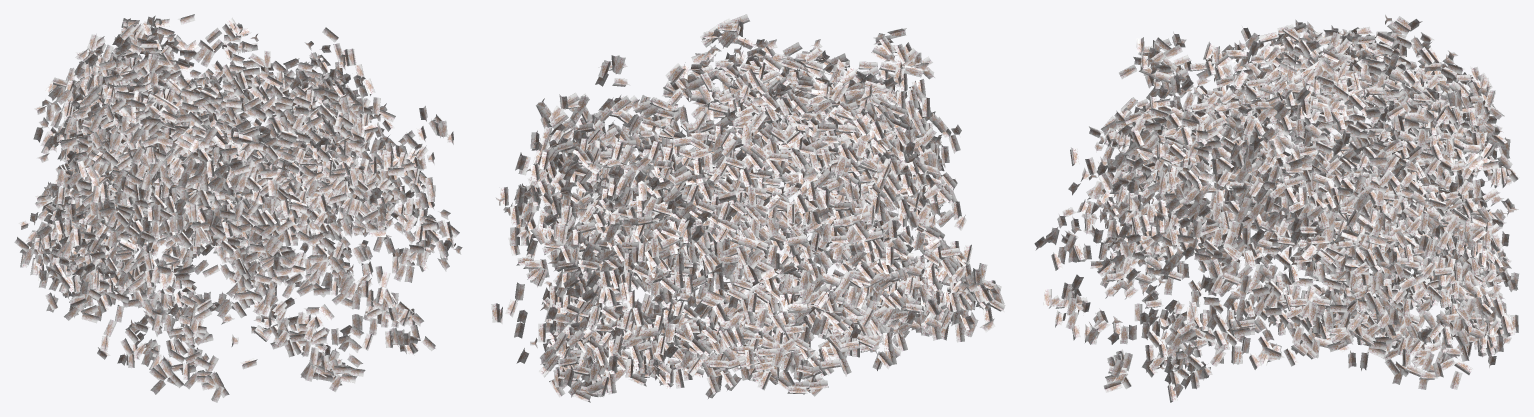
The model's file is cherryblossom_2.fbx.
3 views of the same model, side by side, from view 1: azimuth 30°, elevation 25°; view 2: azimuth 150°, elevation 25°; view 3: azimuth 270°, elevation 25° (orthographic). The views are drawn at different scales.
Visible parts, largest first — view 1: MASH1_ReproMesh1; view 2: MASH1_ReproMesh1; view 3: MASH1_ReproMesh1.
Boxes of the visible parts, box(x1,y1,x2,y2) form: MASH1_ReproMesh1: box(14, 14, 462, 402); MASH1_ReproMesh1: box(491, 14, 1005, 402); MASH1_ReproMesh1: box(1034, 14, 1519, 402).
Size of the model in its own units: 6055 by 4485 by 6189.
Materials: 1 (1 with a texture image).
